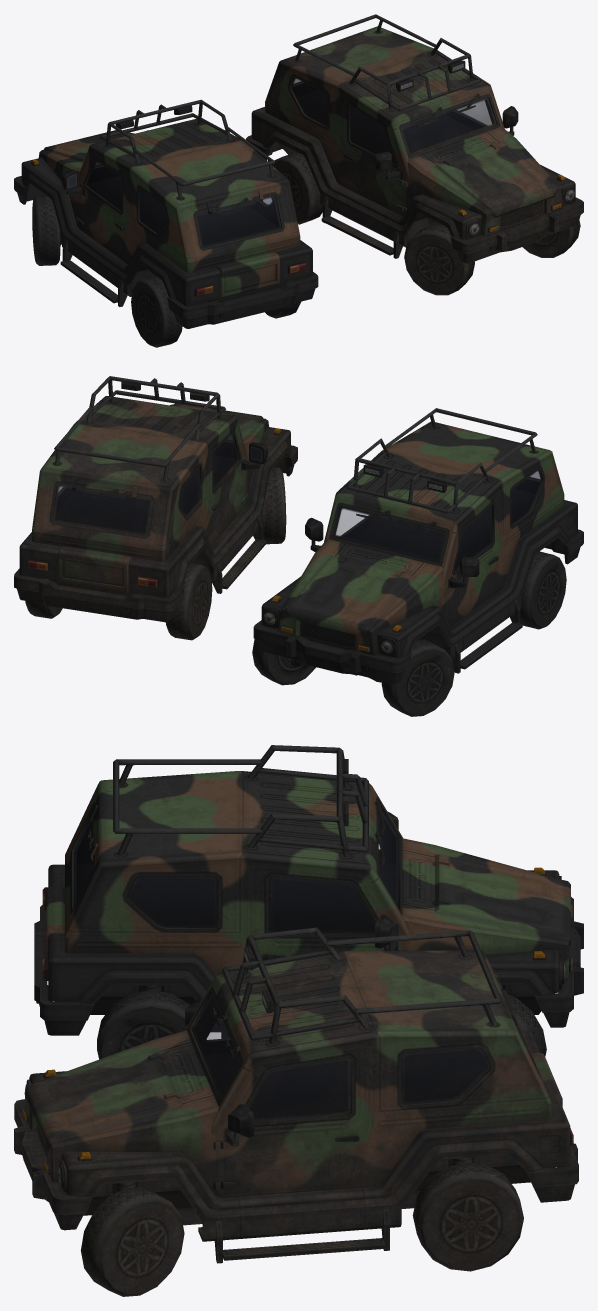
Rendered from jeepm.glb.
3 renders of one model, top to bottom at view 1: azimuth 30°, elevation 25°; view 2: azimuth 150°, elevation 25°; view 3: azimuth 270°, elevation 25°, orthographic. The views are drawn at different scales.
Visible parts, largest first — view 1: Object_4, Object_2, Object_3, Object_6, Object_5; view 2: Object_2, Object_4, Object_3, Object_5, Object_6; view 3: Object_4, Object_2, Object_3, Object_6, Object_5.
Boxes of the visible parts, x1,y1,x2,y2 form: Object_4: (246, 14, 583, 295); Object_2: (14, 99, 318, 347); Object_3: (88, 83, 494, 245); Object_6: (291, 77, 496, 164); Object_5: (86, 160, 281, 247); Object_2: (252, 408, 583, 716); Object_4: (14, 376, 297, 640); Object_3: (55, 442, 539, 568); Object_5: (333, 469, 541, 570); Object_6: (53, 434, 238, 535); Object_4: (14, 927, 578, 1296); Object_2: (34, 745, 583, 1059); Object_3: (76, 811, 487, 1119); Object_6: (191, 993, 490, 1121); Object_5: (74, 811, 398, 933).
Bounding box in the file's own units: 232 × 90.89 × 174.
Materials: 5 (4 with a texture image).
